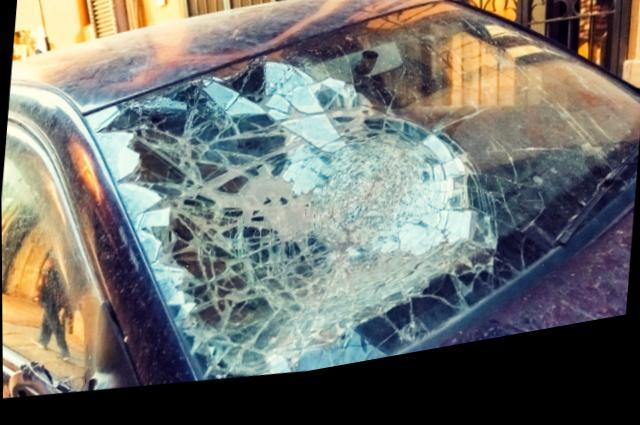glass shatter: (84, 16, 640, 387)
